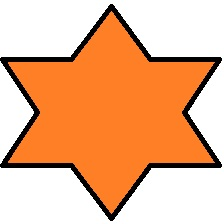star: (1, 4, 222, 222)
